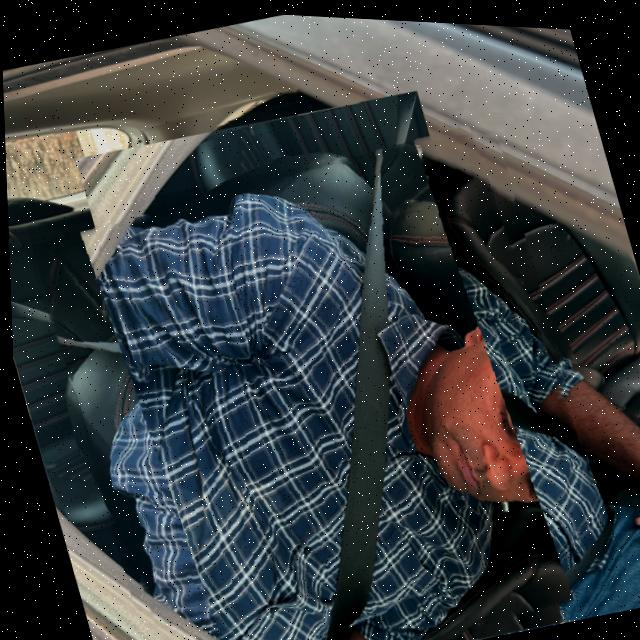seatbelt: (19, 103, 628, 640)
